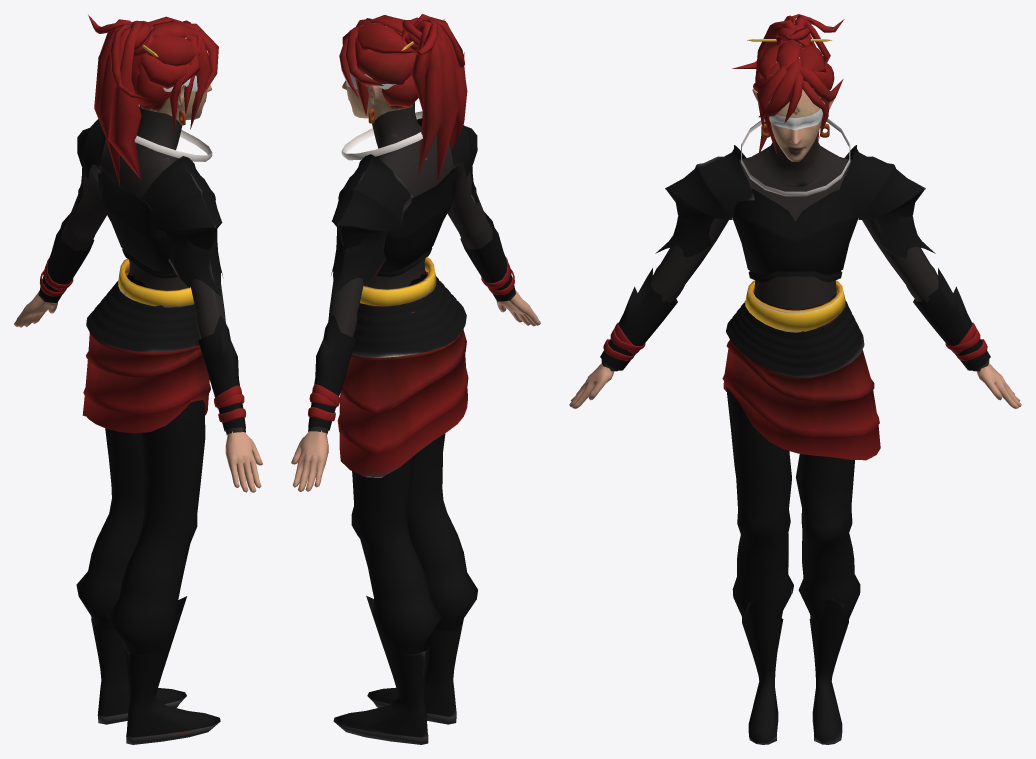
The model's file is Player1.fbx.
3 renders of one model, left to right at view 1: azimuth 30°, elevation 25°; view 2: azimuth 150°, elevation 25°; view 3: azimuth 270°, elevation 25°, orthographic. The views are drawn at different scales.
Parts seen in each view (by area): view 1: Cube.003; view 2: Cube.003; view 3: Cube.003.
Part boxes in pixels (<box>): Cube.003: <box>14,14,262,744</box>; Cube.003: <box>291,14,540,744</box>; Cube.003: <box>569,14,1021,744</box>.
Bounding box in the file's own units: 2590 × 760 × 4398.
Materials: 1 (1 with a texture image).
